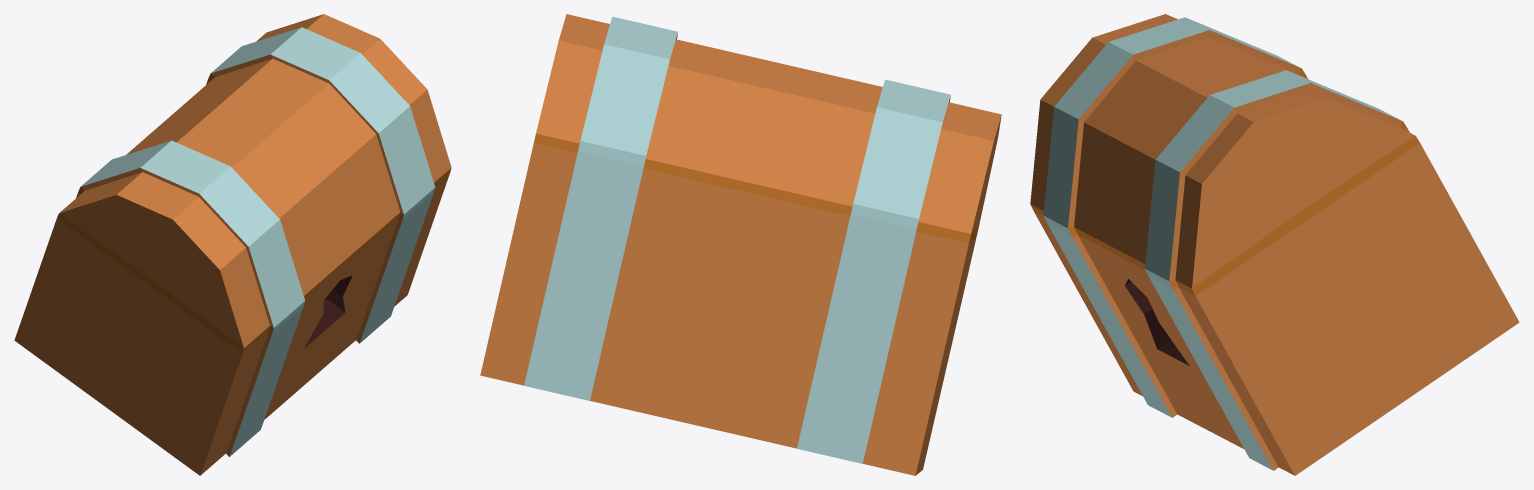
Rendered from Cofre_color.fbx.
3 renders of one model, left to right at view 1: azimuth 30°, elevation 25°; view 2: azimuth 150°, elevation 25°; view 3: azimuth 270°, elevation 25°, orthographic. The views are drawn at different scales.
Parts seen in each view (by area): view 1: Cofre_color; view 2: Cofre_color; view 3: Cofre_color.
Boxes of the visible parts, x1,y1,x2,y2 form: Cofre_color: (14, 14, 451, 475); Cofre_color: (480, 14, 1001, 475); Cofre_color: (1030, 14, 1519, 475).
Bounding box in the file's own units: 17.25 × 17.04 × 15.79.
